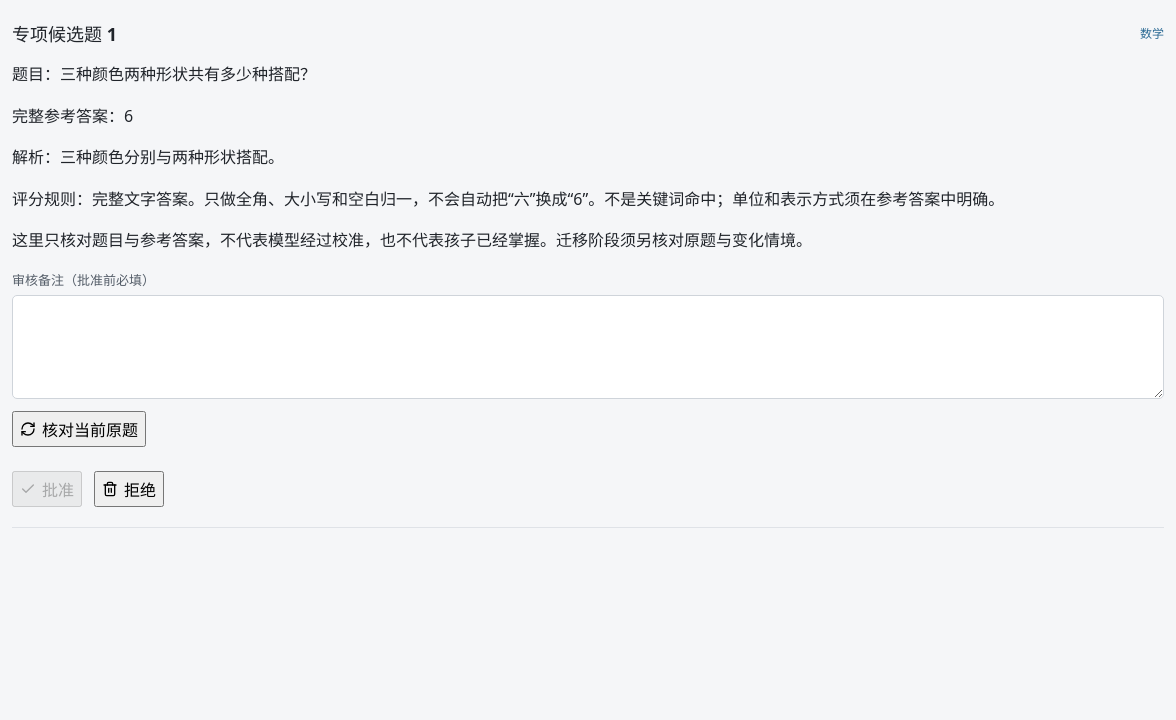
Test case: cannot bind a fresh version to the old reference answer still displayed in the list
The width and height of the screenshot is (1176, 720).
Type "只审核过原来的6" into the text box named "专项候选题1审核备注".
click(588, 347); type("只审核过原来的6")  # box [12, 295, 1164, 399]
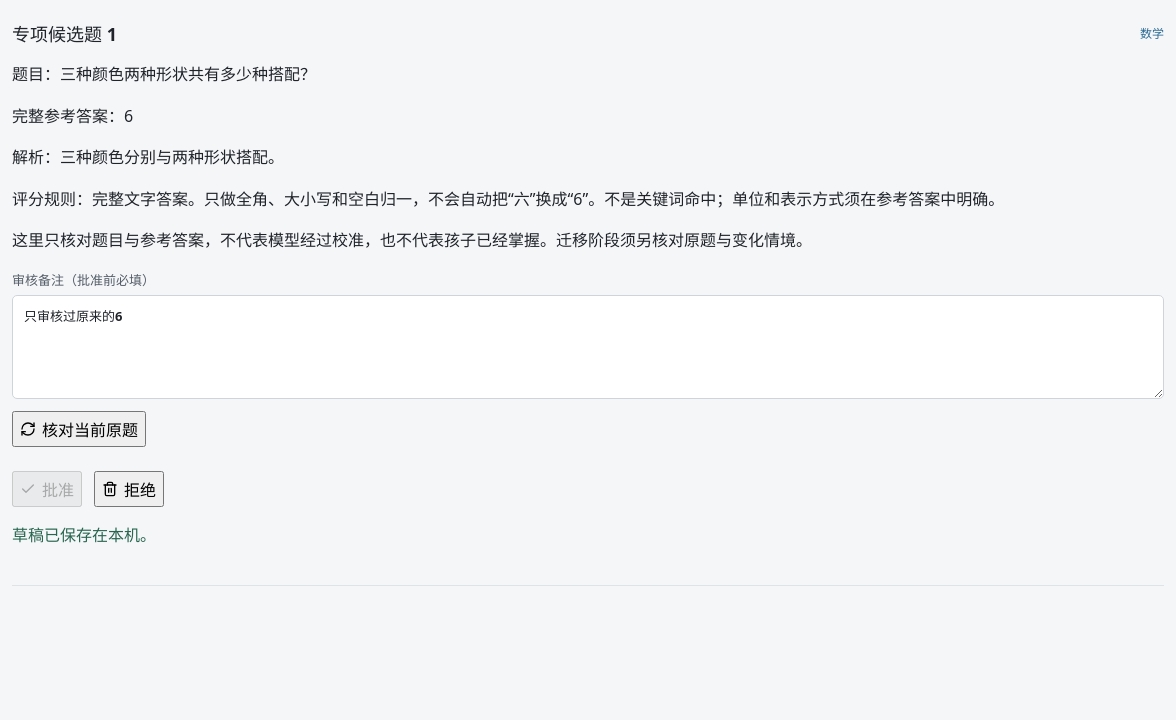
Click the button "核对当前原题".
click(79, 429)  # box [12, 411, 146, 447]
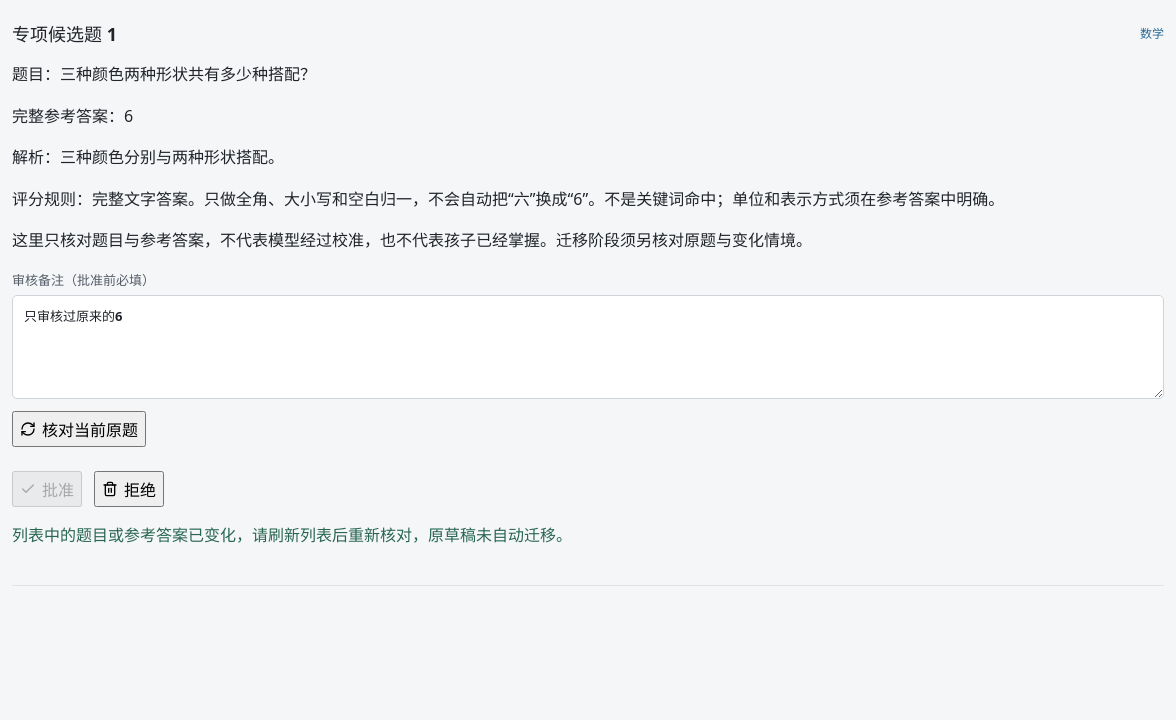
expect the button "批准" is disabled: met, box [12, 471, 82, 507]
expect the text "列表中的题目或参考答案已变化，请刷新列表后重新核对，原草稿未自动迁移。" is shown: met, box [12, 524, 572, 546]
